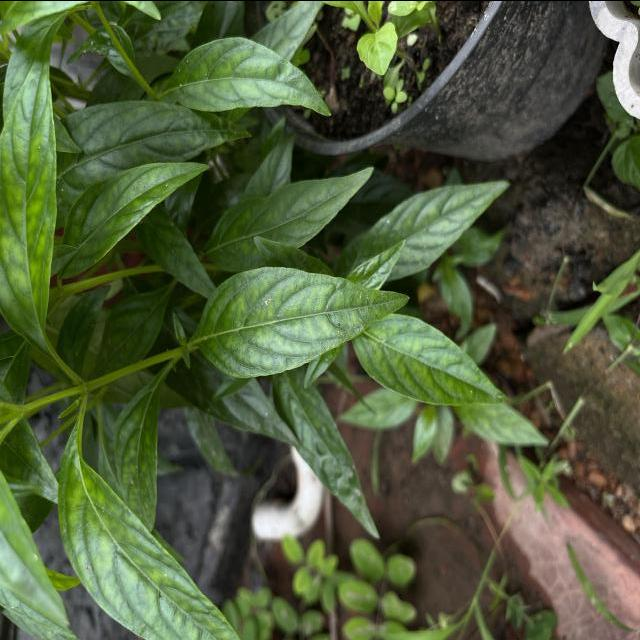Andrographis paniculata: (56, 411, 245, 640), (194, 264, 410, 380), (0, 6, 62, 346), (55, 158, 212, 286), (270, 368, 382, 542), (204, 164, 376, 273), (348, 179, 512, 280), (353, 309, 510, 406), (165, 35, 332, 119)
